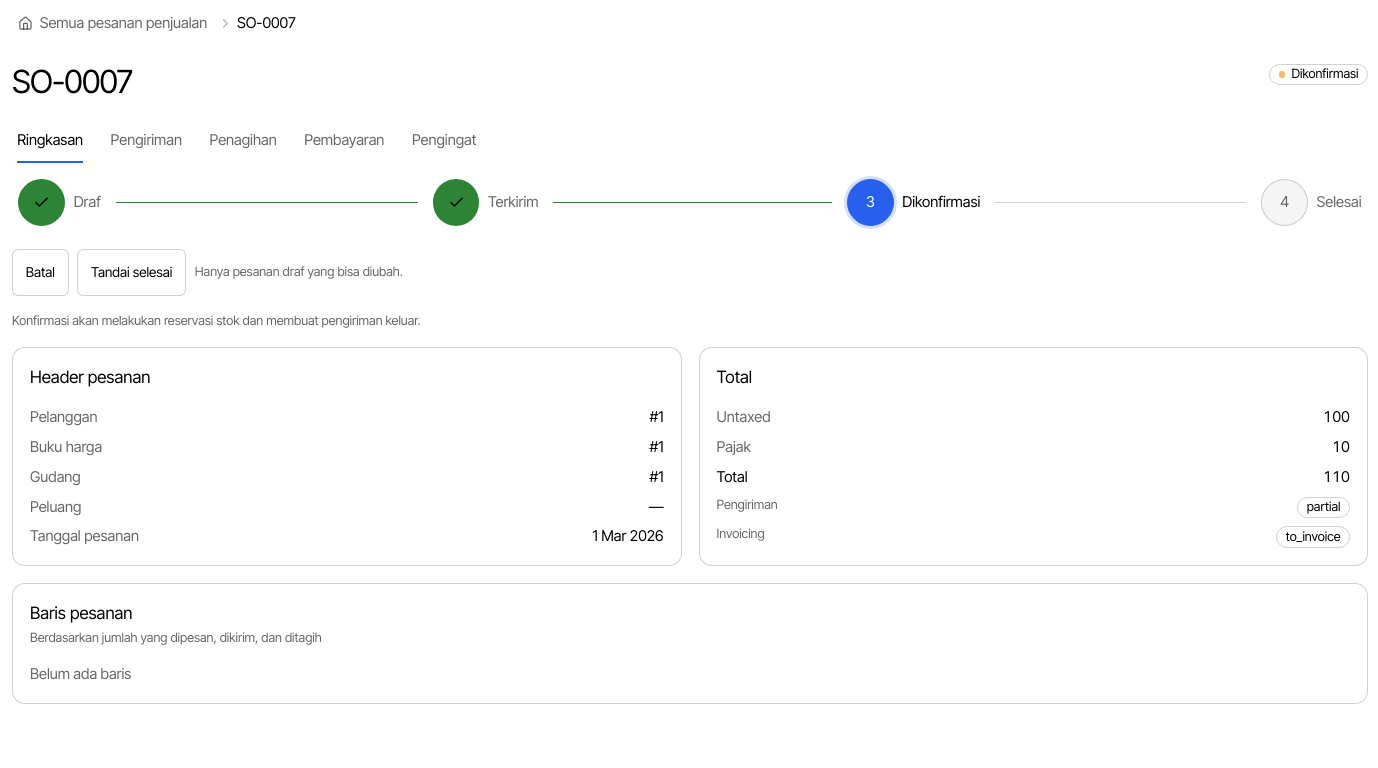
Test: SaleOrderDetail reminder tab › switches to the reminder tab and shows seeded actions
Click the tab "Pengingat" at point(444, 141), box [411,117,477,164]
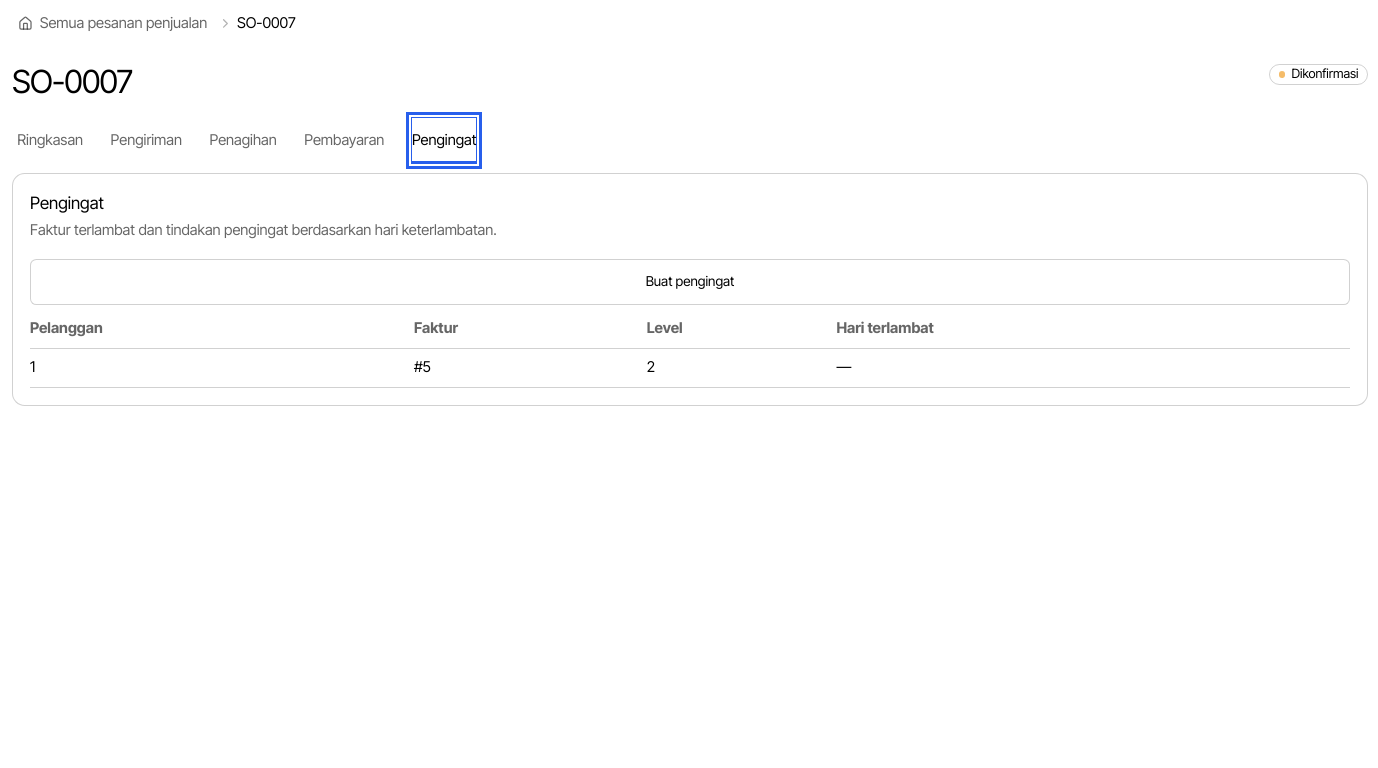
expect the button "Buat pengingat" is shown: met, box [30,259,1350,306]
expect the text "#5" is shown: met, box [414,348,647,388]
